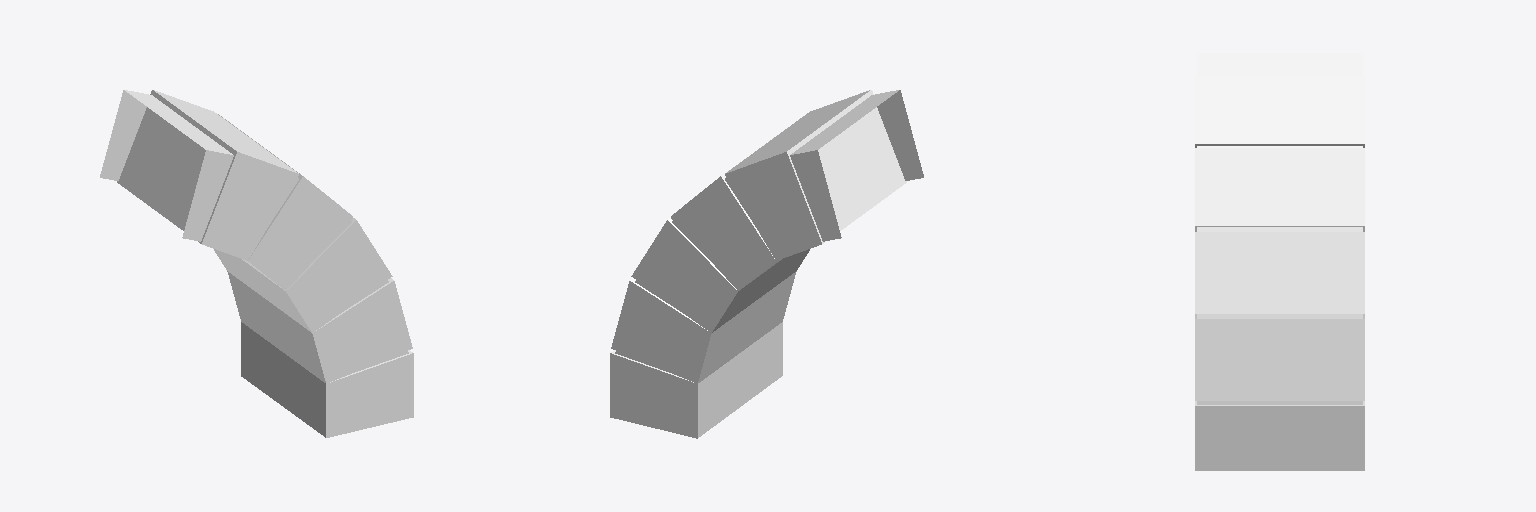
File: generic_round_arch_3.obj
3 renders of one model, left to right at view 1: azimuth 30°, elevation 25°; view 2: azimuth 150°, elevation 25°; view 3: azimuth 270°, elevation 25°, orthographic.
Visible parts, largest first — view 1: arch_3_left, arch_3_left_inner; view 2: arch_3_left, arch_3_left_inner; view 3: arch_3_left, arch_3_left_inner.
Part boxes in pixels (x1,y1,x2,y2): arch_3_left: (117, 90, 413, 437); arch_3_left_inner: (100, 90, 408, 372); arch_3_left: (610, 90, 906, 438); arch_3_left_inner: (615, 90, 923, 372); arch_3_left: (1195, 76, 1364, 470); arch_3_left_inner: (1197, 53, 1362, 404).
Bounding box in the file's own units: 1.68 × 2.22 × 1.08.